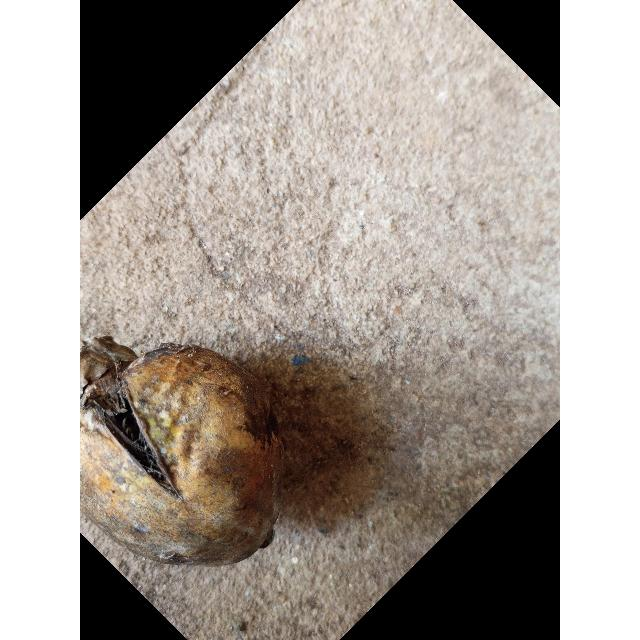damaged: (80, 336, 283, 566)
